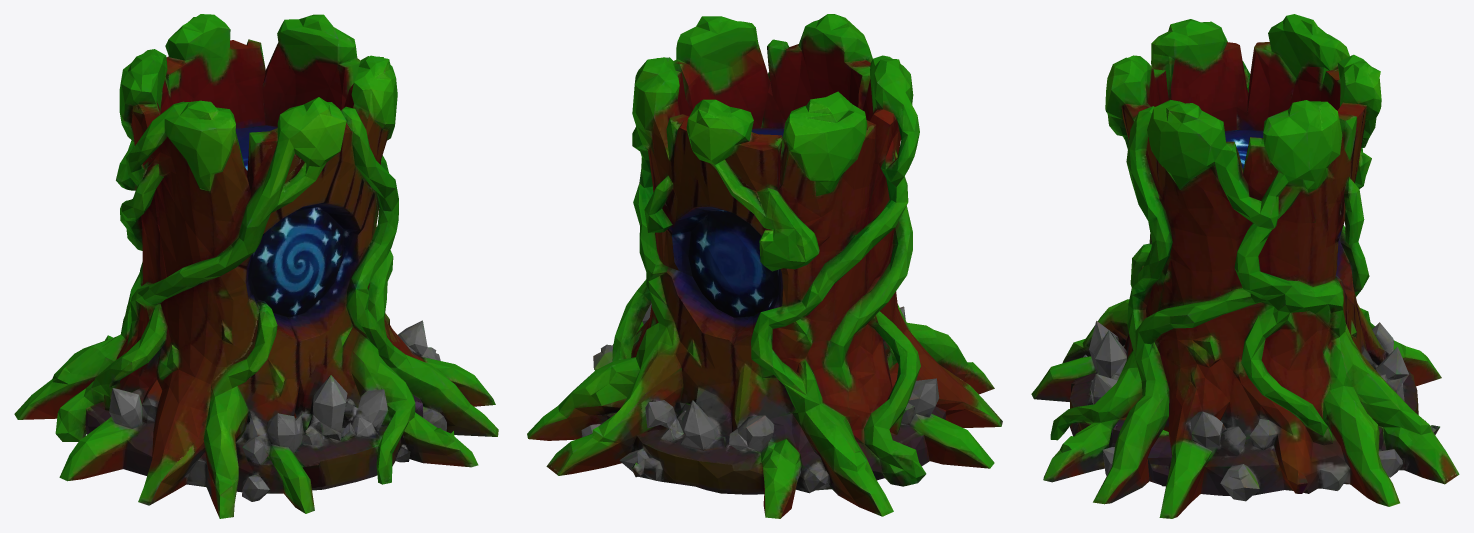
File: mystic_tree_altar.glb
3 renders of one model, left to right at view 1: azimuth 30°, elevation 25°; view 2: azimuth 150°, elevation 25°; view 3: azimuth 270°, elevation 25°, orthographic.
Bounding box in the file's own units: 1.94 × 1.69 × 1.78.
1 material, 1 textured.
